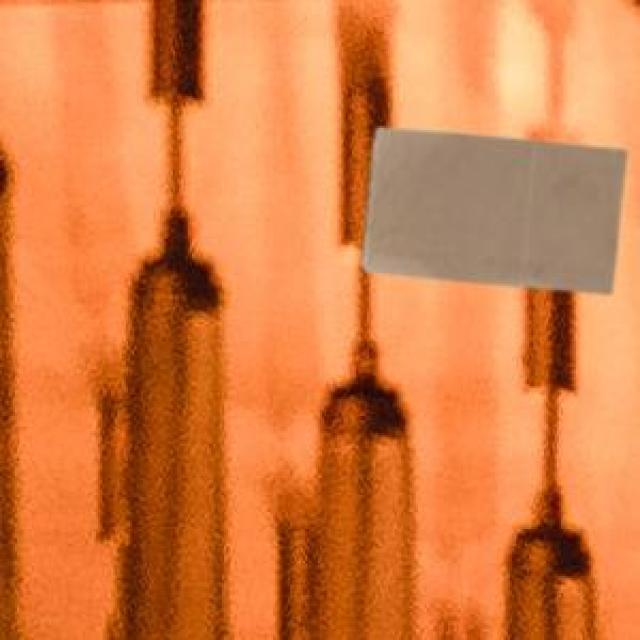paper: (358, 124, 622, 290)
